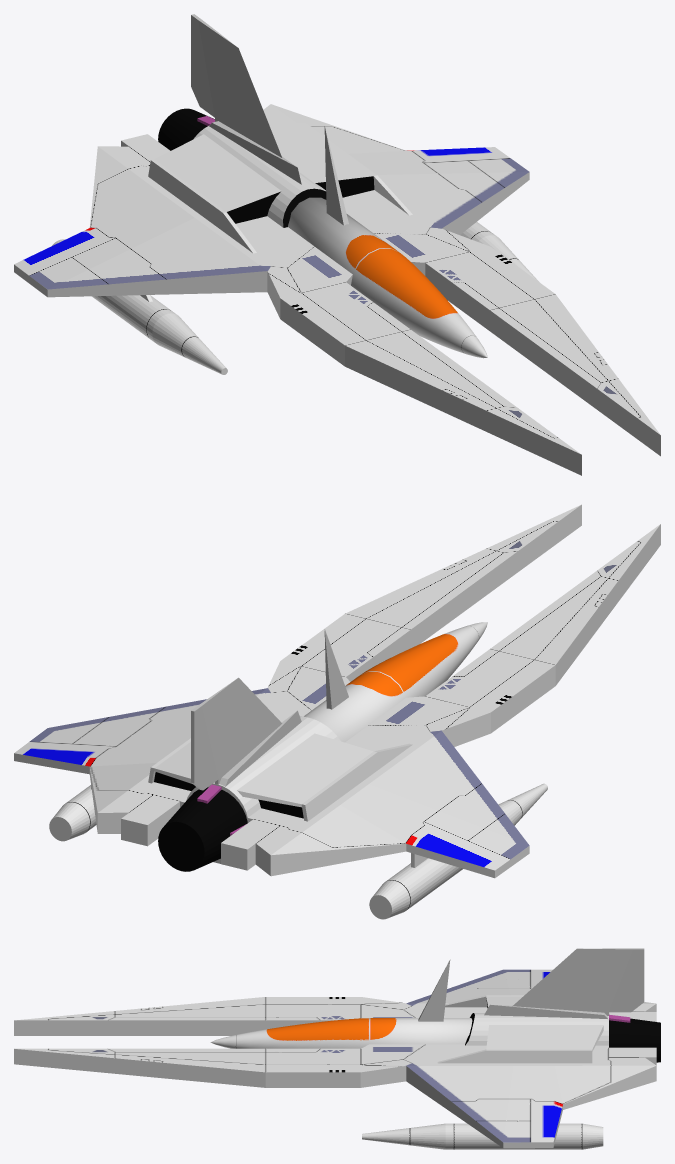
Rendered from VicViper.obj.
3 views of the same model, one above another, from view 1: azimuth 30°, elevation 25°; view 2: azimuth 150°, elevation 25°; view 3: azimuth 270°, elevation 25° (orthographic). The views are drawn at different scales.
Visible parts, largest first — view 1: Wing_Cube.002, Cube_Cube.001, Pit_Mesh, TopWing_Cube.008, Weapon_Cube.010, PitBack_Cylinder, Engine_Cube.006, PitWing_Cube.003; view 2: Wing_Cube.002, Cube_Cube.001, Pit_Mesh, TopWing_Cube.008, Weapon_Cube.010, Engine_Cube.006, PitBack_Cylinder, PitWing_Cube.003; view 3: Wing_Cube.002, TopWing_Cube.008, Pit_Mesh, Cube_Cube.001, Weapon_Cube.010, PitBack_Cylinder, Engine_Cube.006, PitWing_Cube.003.
Part boxes in pixels (x1,y1,x2,y2): Wing_Cube.002: [14, 104, 660, 475]; Cube_Cube.001: [148, 122, 412, 253]; Pit_Mesh: [288, 197, 487, 358]; TopWing_Cube.008: [191, 14, 301, 184]; Weapon_Cube.010: [52, 222, 538, 374]; PitBack_Cylinder: [193, 125, 326, 227]; Engine_Cube.006: [158, 108, 214, 150]; PitWing_Cube.003: [324, 126, 348, 225]; Wing_Cube.002: [14, 504, 660, 878]; Cube_Cube.001: [148, 733, 412, 821]; Pit_Mesh: [304, 622, 487, 742]; TopWing_Cube.008: [191, 677, 301, 790]; Weapon_Cube.010: [49, 783, 547, 919]; Engine_Cube.006: [158, 784, 247, 871]; PitBack_Cylinder: [186, 716, 340, 818]; PitWing_Cube.003: [324, 629, 348, 709]; Wing_Cube.002: [14, 969, 656, 1148]; TopWing_Cube.008: [484, 948, 644, 1018]; Pit_Mesh: [210, 1018, 472, 1048]; Cube_Cube.001: [437, 995, 603, 1063]; Weapon_Cube.010: [362, 1123, 603, 1149]; PitBack_Cylinder: [465, 1013, 608, 1045]; Engine_Cube.006: [609, 1014, 660, 1062]; PitWing_Cube.003: [418, 959, 450, 1021].
Bounding box in the file's own units: 11.81 × 4.53 × 18.66.
Materials: 9 (6 with a texture image).
